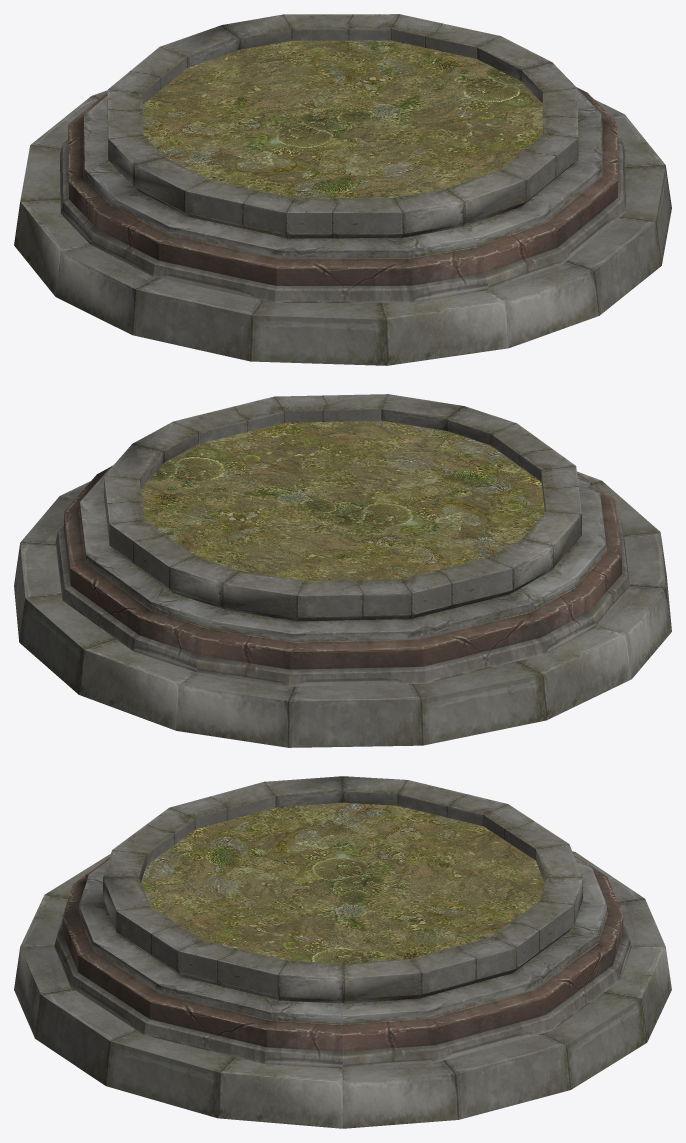
File: bg_anh_etc_cp01_sm_old.FBX
3 renders of one model, top to bottom at view 1: azimuth 30°, elevation 25°; view 2: azimuth 150°, elevation 25°; view 3: azimuth 270°, elevation 25°, orthographic.
Parts seen in each view (by area): view 1: bg_anh_etc_cp01_sm_old; view 2: bg_anh_etc_cp01_sm_old; view 3: bg_anh_etc_cp01_sm_old.
Part boxes in pixels (x1,y1,x2,y2): bg_anh_etc_cp01_sm_old: (14, 14, 671, 365); bg_anh_etc_cp01_sm_old: (14, 394, 671, 747); bg_anh_etc_cp01_sm_old: (14, 776, 671, 1128).
Bounding box in the file's own units: 250 × 47.04 × 250.
